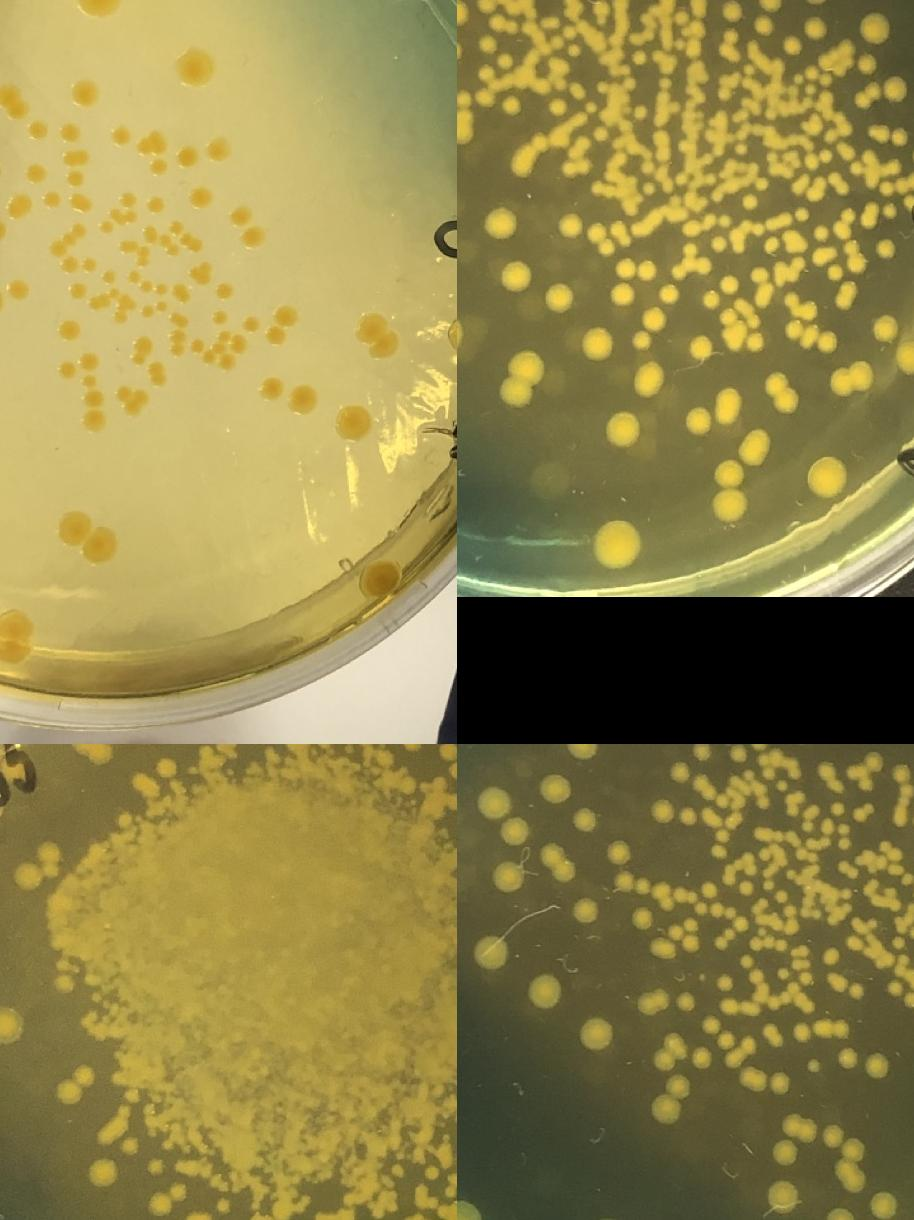vharveyi: (550, 211, 618, 259), (589, 513, 643, 573), (798, 445, 852, 505), (867, 311, 914, 377), (59, 512, 116, 564), (499, 348, 548, 408), (709, 458, 750, 526), (749, 897, 796, 952), (608, 257, 658, 308), (695, 902, 747, 951), (824, 358, 878, 398), (852, 74, 910, 110), (601, 408, 646, 452), (626, 307, 668, 353), (353, 313, 395, 357), (648, 1080, 688, 1124), (0, 611, 31, 666), (476, 204, 518, 244), (578, 326, 620, 366), (495, 257, 536, 297), (228, 205, 264, 250), (762, 372, 800, 414), (737, 969, 769, 1016), (766, 983, 814, 1014), (756, 749, 801, 782), (200, 330, 236, 371), (264, 303, 296, 348), (856, 11, 896, 47), (836, 1140, 864, 1191), (701, 810, 742, 844), (790, 64, 832, 97), (751, 0, 787, 38), (150, 1180, 188, 1216), (894, 873, 914, 940), (362, 561, 398, 597), (178, 50, 212, 86), (68, 75, 102, 110), (457, 0, 498, 29), (541, 846, 574, 882), (654, 884, 698, 911), (286, 382, 320, 416), (336, 406, 370, 440), (48, 226, 84, 258), (88, 288, 137, 311), (115, 384, 148, 418), (722, 854, 756, 887), (677, 404, 712, 436), (540, 282, 576, 313), (0, 84, 30, 120), (842, 238, 870, 276), (457, 89, 475, 147), (654, 1035, 683, 1071), (686, 334, 718, 366), (719, 0, 741, 46), (877, 172, 914, 199), (95, 1115, 128, 1145), (782, 1116, 818, 1143), (788, 945, 812, 985), (634, 990, 670, 1016), (530, 976, 560, 1007), (581, 1020, 612, 1050), (724, 1039, 755, 1069), (769, 1184, 800, 1214), (82, 392, 105, 432), (540, 776, 570, 806), (477, 938, 506, 968), (480, 788, 509, 818), (492, 862, 521, 892), (895, 785, 914, 827), (56, 1076, 84, 1104), (118, 240, 148, 266), (824, 170, 850, 200), (14, 862, 42, 889), (92, 1161, 119, 1189), (612, 872, 648, 893), (802, 14, 828, 42), (814, 331, 842, 357), (870, 236, 898, 262), (0, 1008, 20, 1043), (801, 149, 834, 170), (457, 306, 469, 360), (754, 828, 796, 843), (779, 33, 803, 59), (58, 319, 82, 344), (474, 31, 498, 56), (871, 1194, 896, 1218), (60, 148, 89, 168), (135, 134, 164, 154), (6, 278, 30, 302), (204, 138, 228, 162), (258, 377, 282, 401), (657, 282, 681, 306), (696, 288, 720, 312), (718, 272, 742, 296), (572, 807, 596, 831), (573, 899, 597, 923), (773, 1142, 797, 1166), (782, 792, 806, 816), (865, 1054, 889, 1078), (499, 93, 522, 118), (132, 336, 152, 364), (187, 187, 210, 211), (606, 842, 630, 865), (856, 53, 878, 78), (800, 806, 822, 831), (107, 208, 135, 227), (176, 146, 198, 170), (888, 126, 910, 150), (36, 840, 60, 862), (118, 1138, 142, 1160), (701, 213, 732, 230), (188, 263, 211, 285), (566, 744, 597, 760), (128, 770, 150, 792), (142, 1156, 164, 1178), (211, 1194, 233, 1216), (762, 1024, 782, 1048), (878, 842, 902, 862), (880, 887, 899, 912), (80, 0, 113, 14), (170, 748, 192, 769), (694, 776, 714, 799), (744, 332, 764, 354), (761, 234, 781, 256), (824, 262, 844, 284), (879, 202, 899, 224), (758, 868, 776, 892), (148, 361, 165, 386), (158, 234, 178, 255), (783, 318, 802, 340), (823, 1207, 854, 1220), (547, 98, 567, 118), (564, 41, 584, 61), (796, 0, 836, 10), (504, 822, 524, 842), (669, 762, 689, 782), (678, 807, 698, 827), (714, 788, 734, 808), (728, 744, 748, 764), (748, 1071, 768, 1091), (769, 1074, 789, 1094), (838, 1049, 858, 1069), (639, 178, 657, 200), (810, 222, 828, 244), (794, 848, 818, 864), (872, 954, 896, 970), (475, 64, 494, 84), (631, 912, 651, 931), (653, 802, 672, 822), (690, 1049, 709, 1069), (632, 102, 649, 124), (893, 954, 910, 976), (804, 837, 832, 850), (70, 194, 90, 212), (180, 234, 200, 252), (591, 0, 611, 18), (628, 48, 648, 66), (838, 206, 856, 226), (862, 122, 880, 142), (654, 940, 672, 960), (734, 784, 750, 806), (836, 862, 858, 878), (112, 126, 130, 145), (495, 52, 514, 70), (438, 744, 457, 762), (823, 1128, 842, 1146), (854, 803, 873, 821), (754, 784, 768, 808), (12, 195, 30, 213), (43, 192, 61, 210), (57, 361, 75, 379), (60, 123, 78, 141), (60, 257, 78, 275), (66, 170, 84, 188), (68, 282, 86, 300), (79, 352, 97, 370), (100, 268, 118, 286), (146, 196, 164, 214), (230, 335, 248, 353), (242, 316, 260, 334), (654, 74, 672, 92), (672, 8, 690, 26), (457, 1204, 477, 1220), (691, 744, 711, 760), (70, 744, 98, 755), (903, 989, 914, 1017), (27, 121, 44, 139), (27, 165, 44, 183), (119, 192, 136, 210), (590, 126, 609, 142), (441, 1201, 457, 1220), (826, 908, 845, 924), (169, 312, 186, 329), (210, 310, 228, 326), (150, 158, 167, 174), (216, 283, 233, 299), (681, 241, 698, 257), (670, 265, 686, 281), (710, 237, 726, 253), (752, 178, 770, 192), (694, 259, 709, 275), (794, 207, 809, 223), (168, 220, 182, 236), (172, 283, 186, 299), (742, 194, 756, 210), (733, 142, 748, 156), (776, 968, 790, 983), (186, 1211, 208, 1220), (668, 926, 682, 940), (678, 996, 692, 1010), (684, 918, 698, 932), (700, 883, 714, 897), (704, 1019, 718, 1033), (718, 1034, 732, 1048), (719, 1000, 733, 1014), (738, 882, 752, 896), (740, 954, 754, 968), (774, 778, 788, 792), (794, 1025, 808, 1039), (816, 1021, 830, 1035), (818, 764, 832, 778), (822, 951, 836, 965), (832, 978, 846, 992), (833, 1022, 847, 1036), (850, 986, 864, 1000), (866, 755, 880, 769), (886, 982, 900, 996), (893, 768, 907, 782), (582, 101, 596, 114), (683, 938, 697, 951), (712, 845, 726, 858), (761, 767, 775, 780), (772, 889, 786, 902), (400, 744, 422, 752), (126, 271, 140, 283), (140, 306, 154, 318), (154, 282, 168, 294), (190, 341, 204, 353), (718, 977, 730, 991), (784, 870, 798, 882), (797, 906, 811, 918), (804, 1060, 818, 1072), (820, 821, 834, 833), (829, 803, 843, 815), (836, 839, 850, 851), (858, 778, 872, 790), (864, 919, 878, 931), (872, 856, 886, 868), (890, 937, 904, 949), (113, 311, 126, 323), (154, 301, 167, 313), (169, 344, 182, 356), (82, 374, 94, 386), (82, 259, 94, 271), (100, 221, 112, 233), (139, 280, 151, 292), (143, 227, 155, 239), (728, 773, 740, 785), (742, 770, 754, 782), (758, 848, 770, 860), (782, 905, 794, 917), (829, 780, 841, 792), (836, 824, 848, 836), (846, 766, 858, 778), (846, 938, 858, 950), (886, 864, 898, 876), (909, 978, 914, 990)
